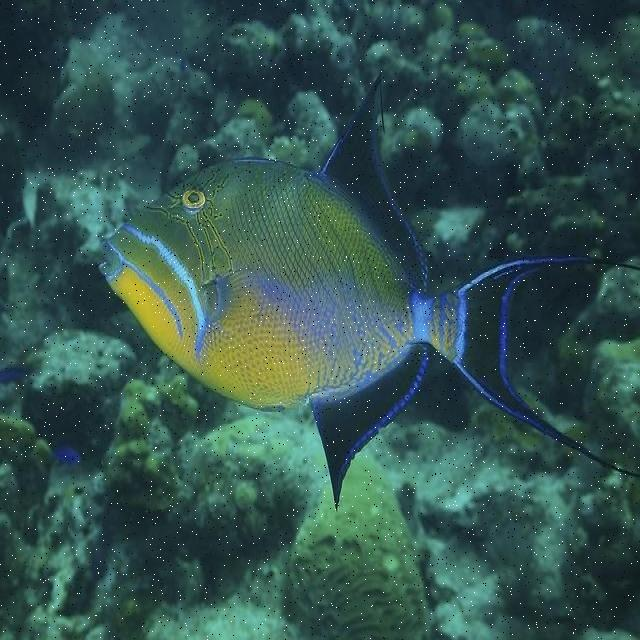fish: (100, 77, 639, 501)
